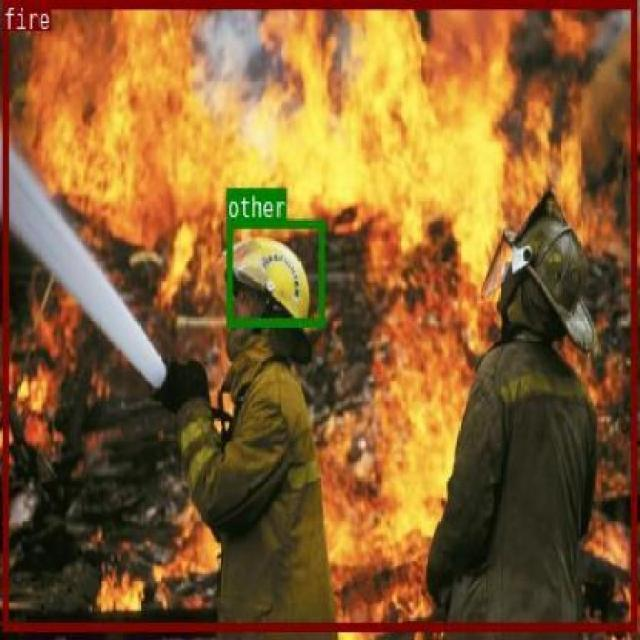Fire: (0, 0, 638, 618)
Smoke: (194, 2, 306, 172)
